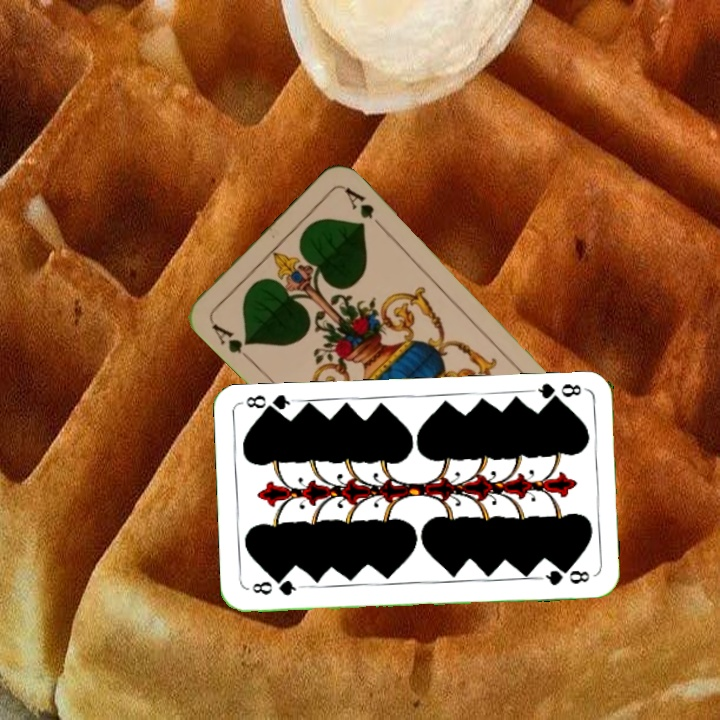G8: (528, 379, 587, 407), (248, 576, 304, 599)
GA: (207, 317, 254, 363)
